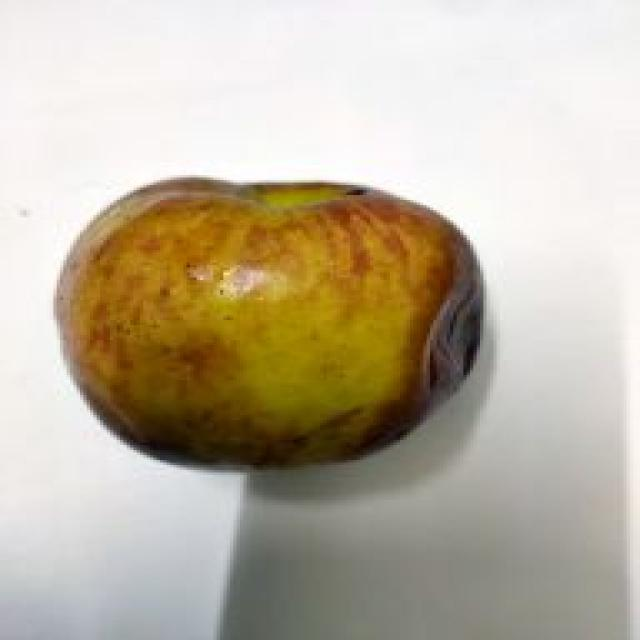Rotten_Apple: (51, 162, 486, 481)
